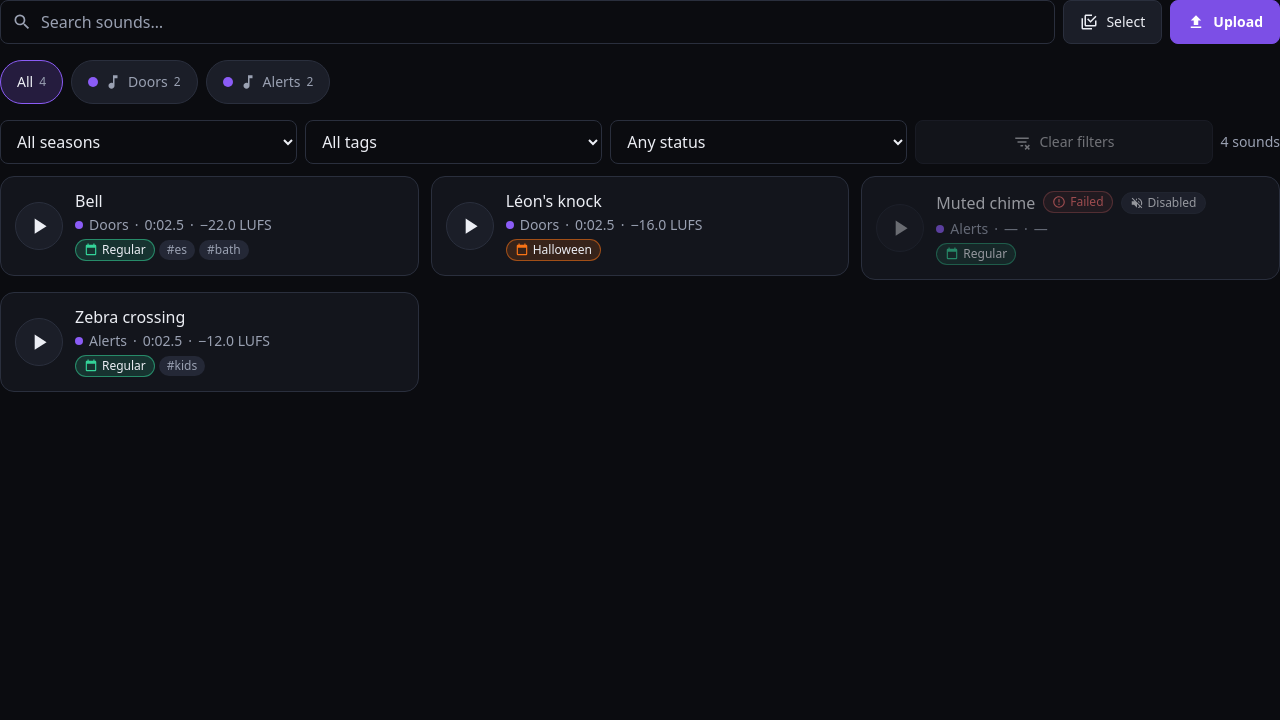
it: selection › drops selected sounds that a filter change hides, and says so
Click the button with test id "select-toggle" at coordinates (1113, 22), box [1063, 0, 1162, 44]
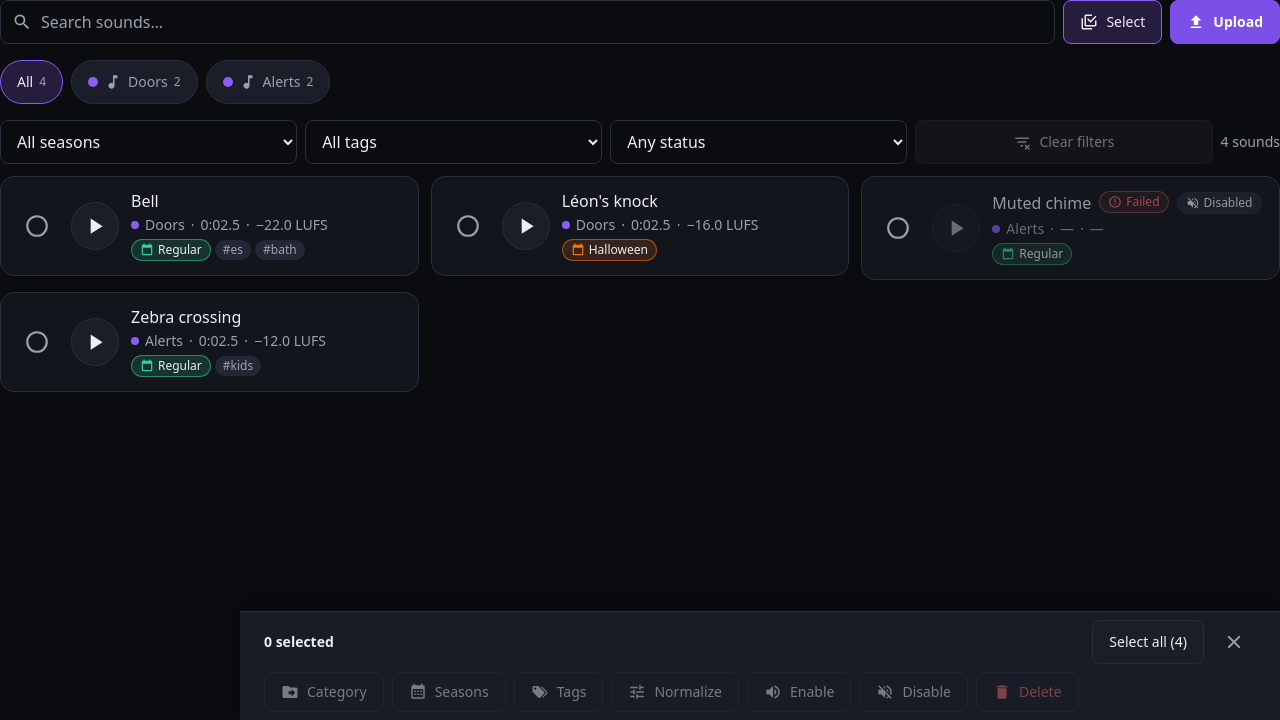
Click the 1st checkbox with test id "select" at coordinates (37, 226), box [15, 204, 59, 248]
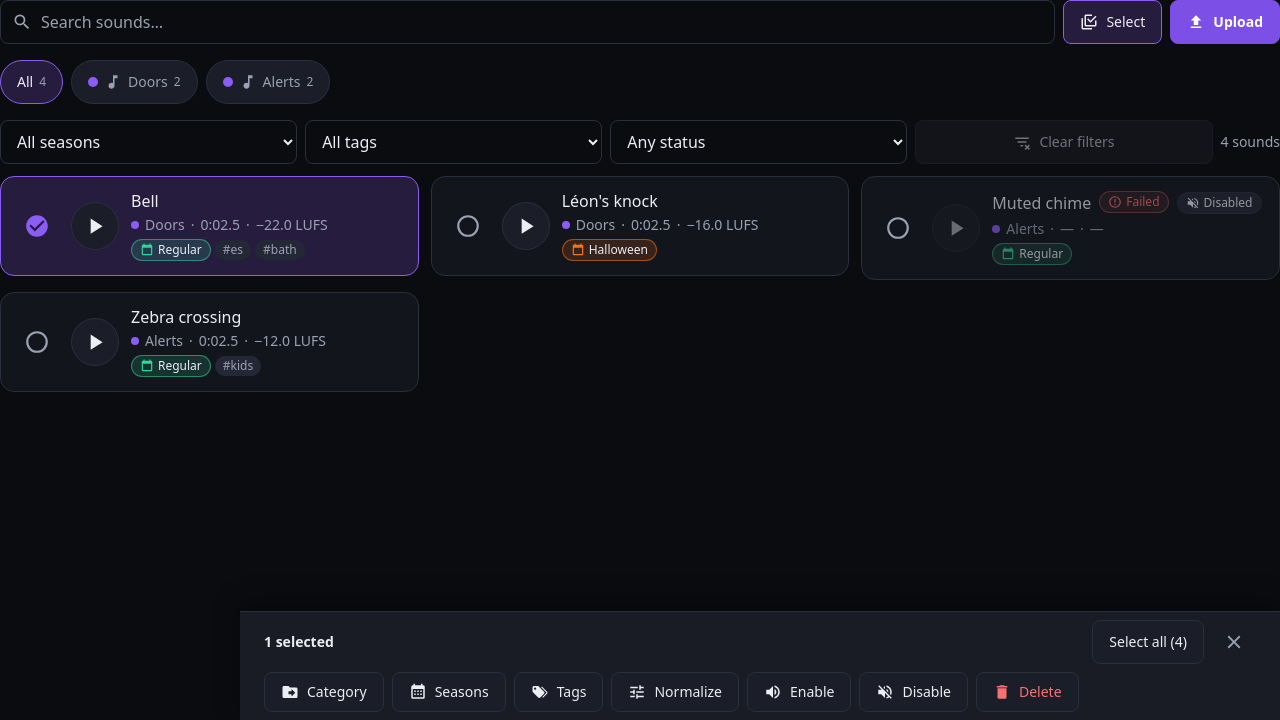
Click the 4th checkbox with test id "select" at coordinates (37, 342), box [15, 320, 59, 364]
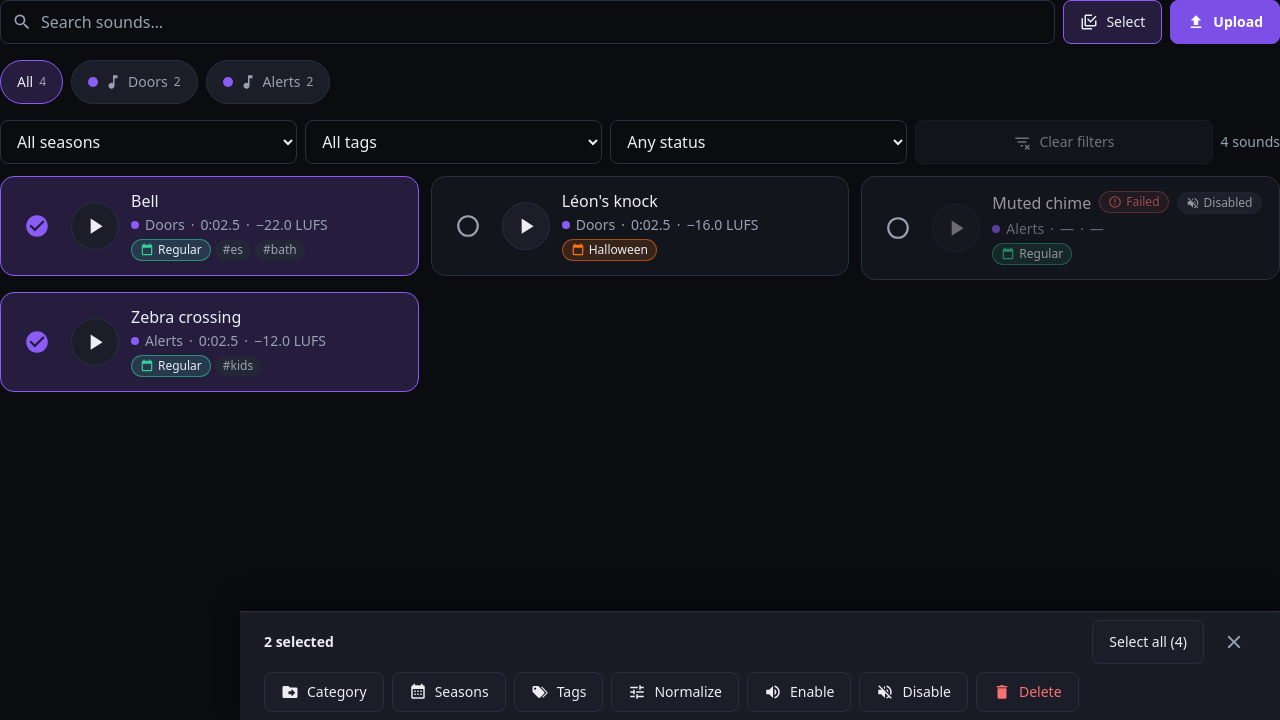
Click the 3rd checkbox with test id "select" at coordinates (898, 228), box [876, 206, 920, 250]
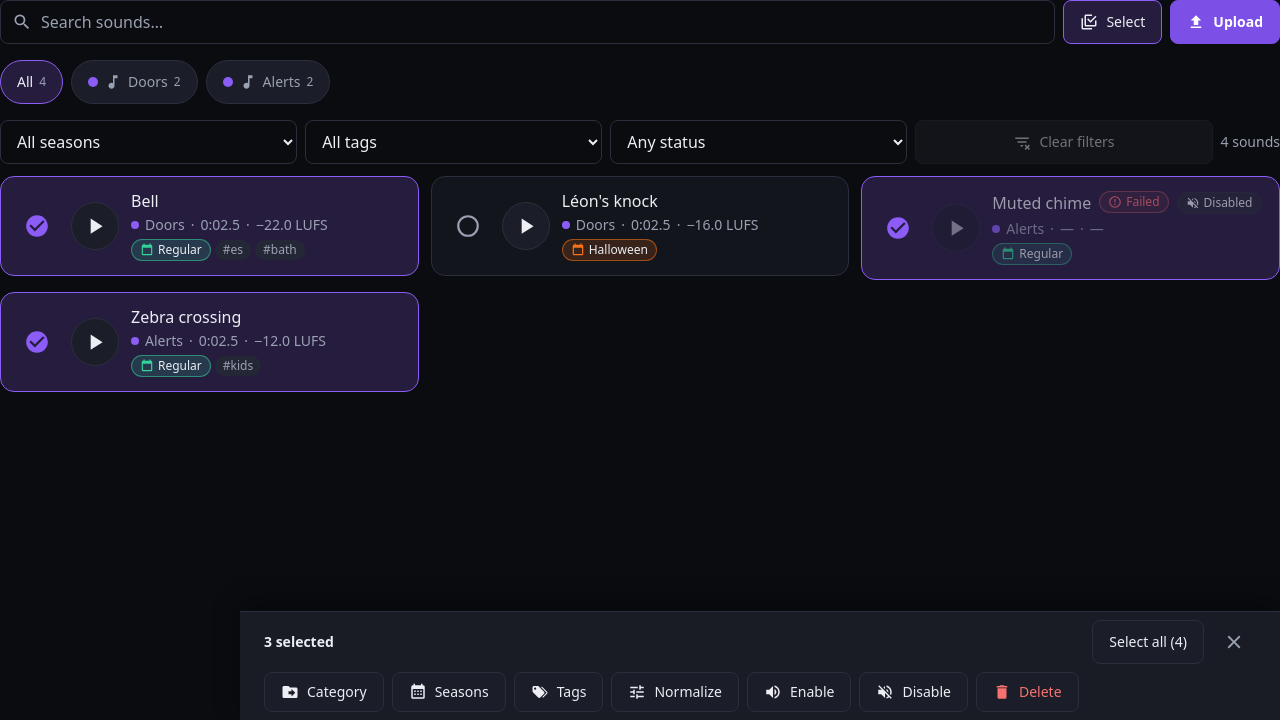
Click the button "Doors 2" at coordinates (134, 82), box [71, 60, 198, 104]
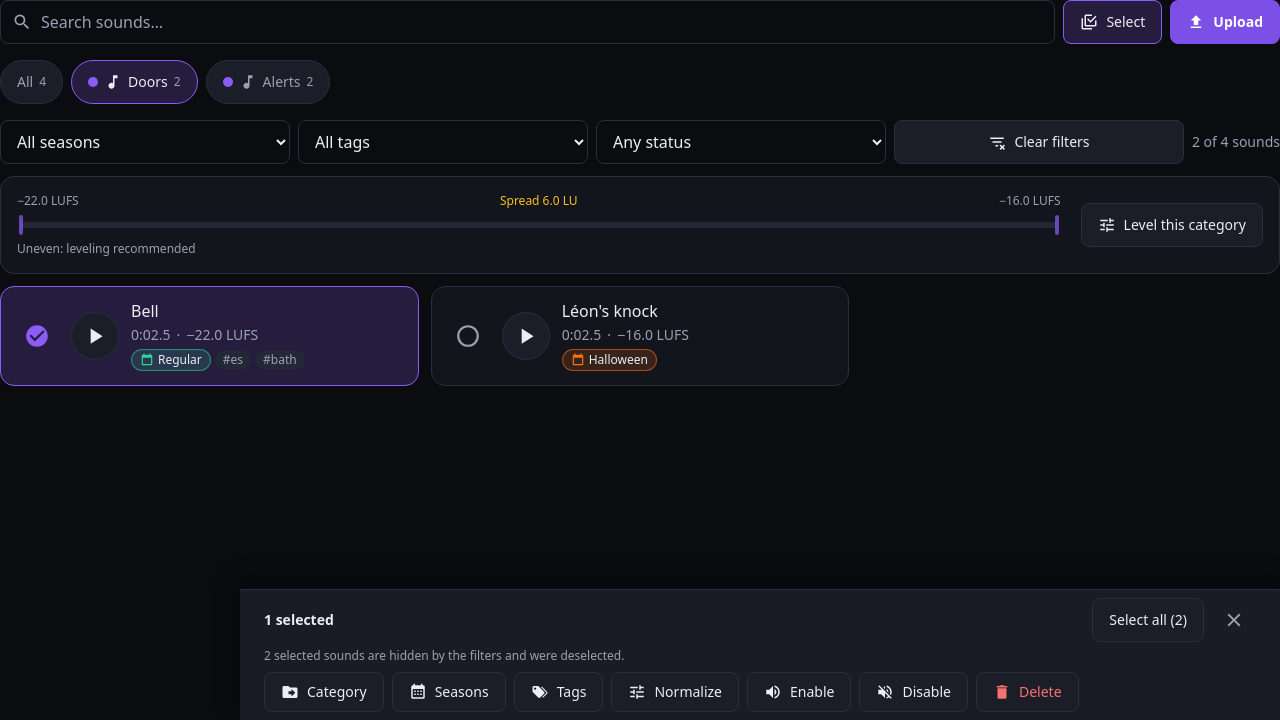
Result: the text with test id "count" reads "1 selected" at [264, 610, 334, 629]
Result: the message with test id "note" reads "2 selected sounds are hidden by the filters and were deselected." at [264, 647, 624, 664]
